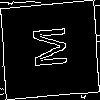M: (25, 25, 67, 70)
